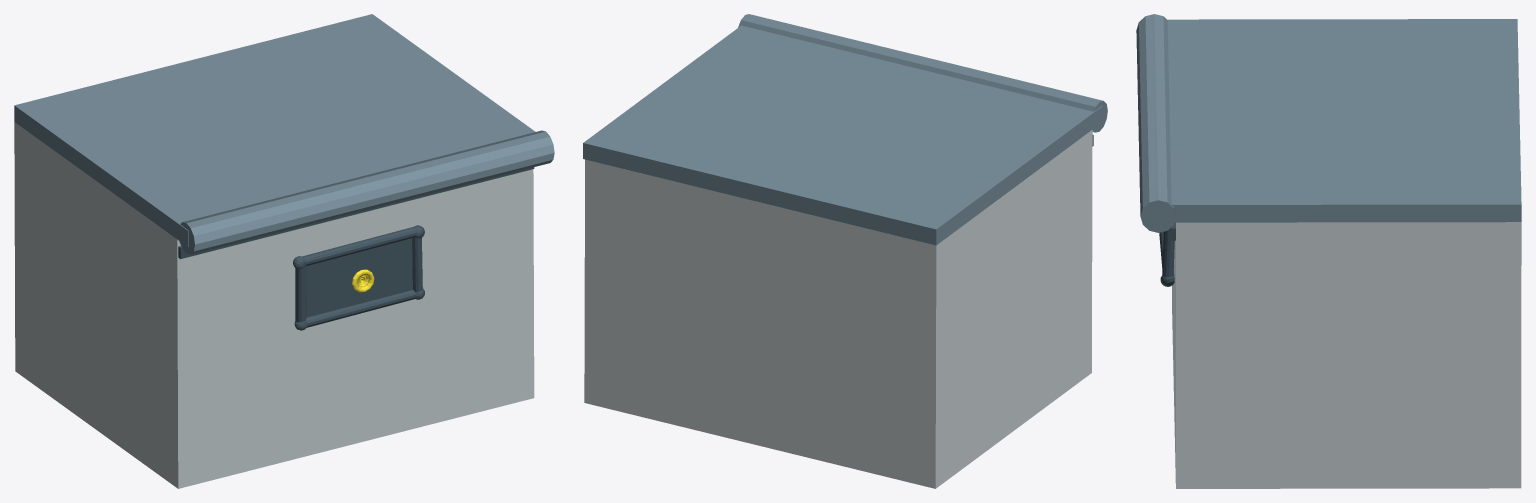
The model's file is LabDeskSingle.fbx.
The picture shows the model from 3 angles, left to right: view 1: azimuth 30°, elevation 25°; view 2: azimuth 150°, elevation 25°; view 3: azimuth 270°, elevation 25°; orthographic projection. The views are drawn at different scales.
Parts seen in each view (by area): view 1: LabDeskSingle; view 2: LabDeskSingle; view 3: LabDeskSingle.
Boxes of the visible parts, left/top/right/bottom form: LabDeskSingle: left=14, top=14, right=554, bottom=488; LabDeskSingle: left=583, top=14, right=1107, bottom=488; LabDeskSingle: left=1136, top=14, right=1521, bottom=488.
Size of the model in its own units: 1.37 by 0.9882 by 1.18.
